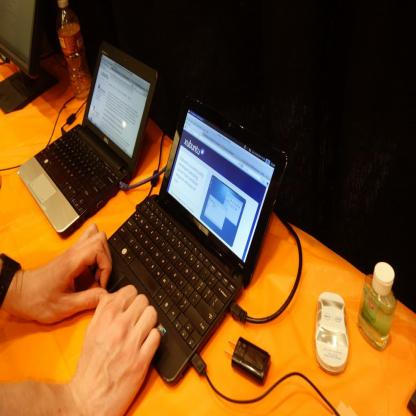board: (97, 97, 282, 388), (17, 42, 158, 238), (58, 1, 91, 102), (359, 265, 396, 348)
